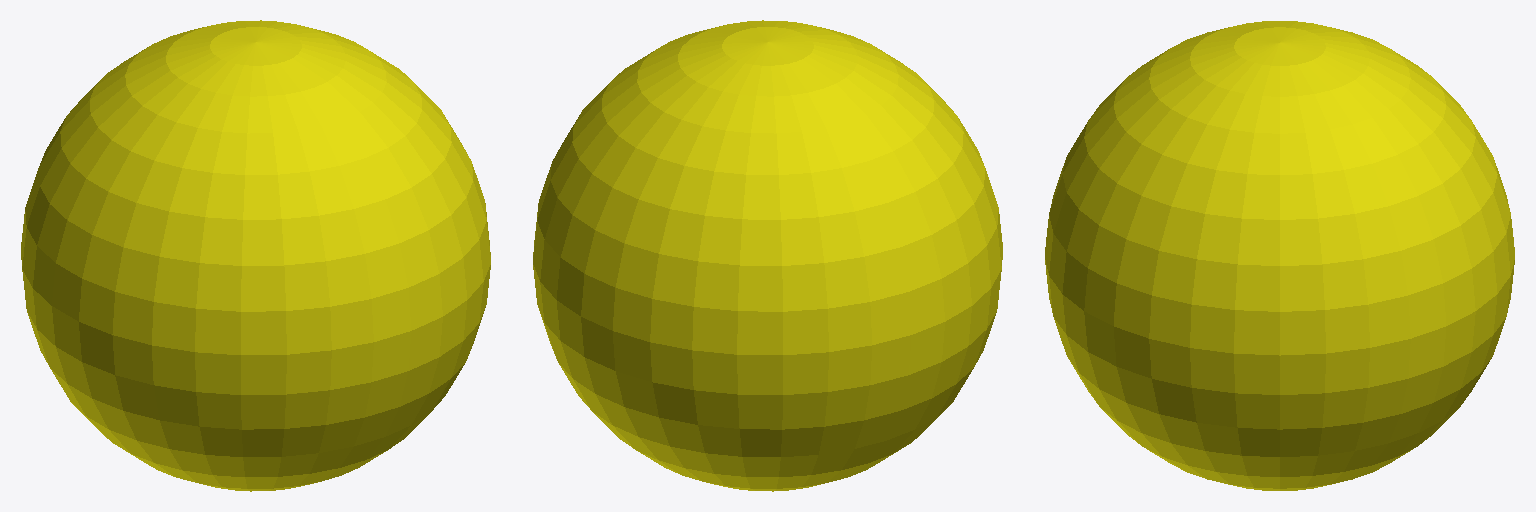
The robot description file, URDF, robot "payload":
<?xml version="1.0"?>
<robot name="payload">
  <link name="sphere">
    <!-- <visual>
      <origin rpy="0 0 1.54" xyz="0 0 -0.05" />
      <geometry>
        <mesh filename="package://multicopter_mpc_viz/launch/hamster-father-fmd.dae" scale="0.001 0.001 0.001" />
      </geometry>
      <material name="">
        <color rgba="0.8471 0.6078 0.3412 1" />
      </material>
    </visual> -->
    <visual>
      <geometry>
        <sphere radius="0.025"/>
      </geometry>
      <material name="yellow">
            <color rgba="0.8902 0.8627 0.0980 1"/>
      </material>
    </visual>
  </link>
</robot>

--- What the picture shows (computed from the rendered views, not written in the file) ---
3 views of the same robot in one strip: view 1: azimuth 30°, elevation 25°; view 2: azimuth 150°, elevation 25°; view 3: azimuth 270°, elevation 25° (orthographic).
Robot: payload — 1 links, 0 joints (none); root link sphere; default pose: every joint at zero.
Links seen in each view (by area): view 1: sphere; view 2: sphere; view 3: sphere.
Boxes of the visible links, bbox=[...] form: sphere: bbox=[21, 20, 490, 491]; sphere: bbox=[533, 20, 1002, 491]; sphere: bbox=[1045, 21, 1514, 490].
Bounding box of the posed robot: 0.05 × 0.05 × 0.05 m (x, y, z).
Geometry: primitives only (box / cylinder / sphere), no mesh files.
